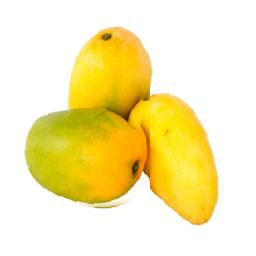Mango Fresh: (23, 101, 156, 212), (151, 75, 234, 237), (65, 22, 149, 130)
